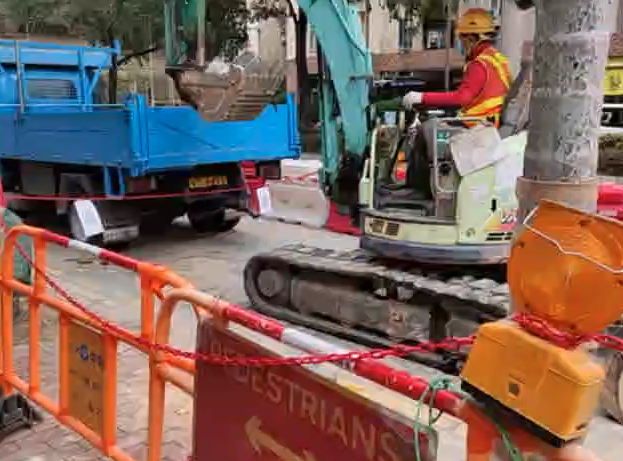Hard Hat: (454, 9, 499, 58)
Person: (403, 9, 505, 202)
Vest: (455, 43, 516, 128)
